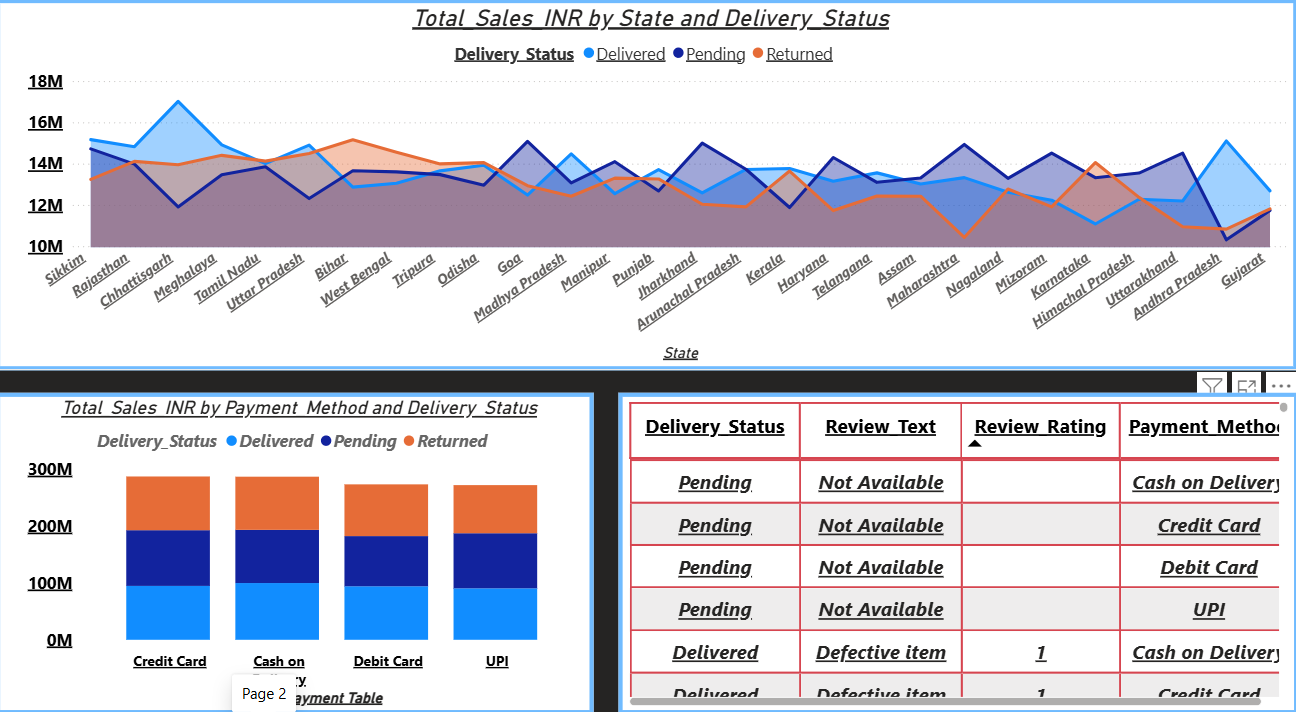

This screenshot's page, from the dashboard's own definition file:
{"tool":"powerbi","page":{"name":"Page 2","canvas":[1280,720],"ordinal":1},"visuals":[{"type":"areaChart","title":" Total_Sales_INR by State and Delivery_Status","fields":{"Category":["amazon_sales_cleaned.State"],"Y":["Sum(amazon_sales_cleaned.Total_Sales_INR)"],"Series":["amazon_sales_cleaned.Delivery_Status"]},"box":[10,14.3,1255.7,358.6],"z":1000},{"type":"tableEx","fields":{"Values":["amazon_sales_cleaned.Delivery_Status","amazon_sales_cleaned.Review_Text","amazon_sales_cleaned.Review_Rating","amazon_sales_cleaned.Payment_Method"]},"box":[610,394.3,655.7,311.4],"z":2000},{"type":"columnChart","title":"Total_Sales_INR by Payment_Method and Delivery_Status","fields":{"Y":["Sum(amazon_sales_cleaned.Total_Sales_INR)"],"Category":["amazon_sales_cleaned.Payment_Method"],"Series":["amazon_sales_cleaned.Delivery_Status"]},"box":[10,394.3,577.1,311.4],"z":3000}]}

Visuals, with their boxes on the page's 1280x720 design canvas (x1, y1, x2, y2). These are canvas units, not pixel positions in the 1296x712 screenshot, which may show the page scaled, cropped or inside an application window:
" Total_Sales_INR by State and Delivery_Status" areaChart: x1=10 y1=14 x2=1266 y2=373
tableEx - amazon_sales_cleaned.Delivery_Status x amazon_sales_cleaned.Review_Text: x1=610 y1=394 x2=1266 y2=706
"Total_Sales_INR by Payment_Method and Delivery_Status" columnChart: x1=10 y1=394 x2=587 y2=706
